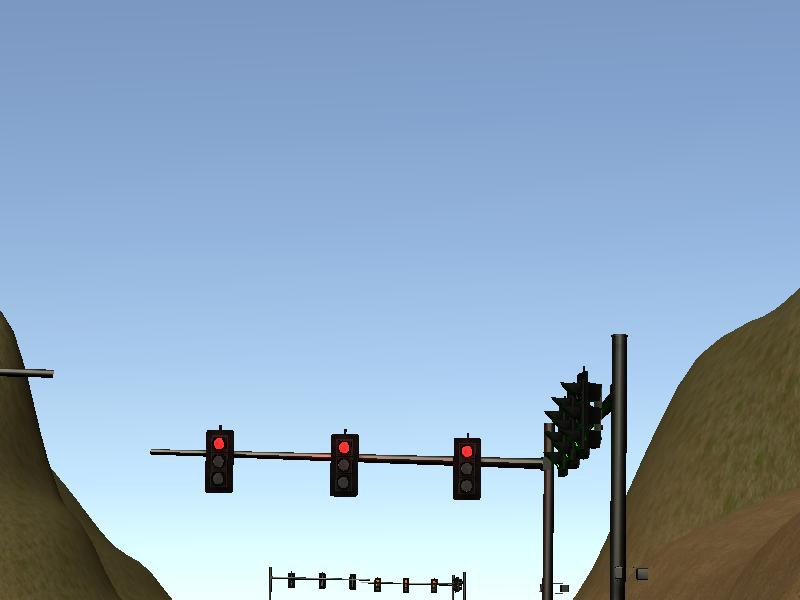Red: (204, 429, 235, 494), (329, 433, 360, 498), (452, 437, 483, 502)
